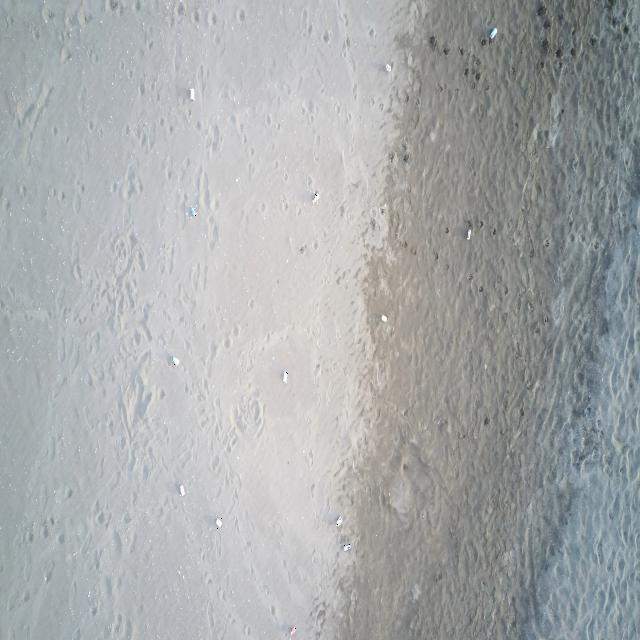Garbage: (487, 26, 496, 40), (171, 355, 179, 366), (281, 369, 287, 383), (335, 515, 342, 526), (312, 192, 319, 203), (188, 207, 196, 216), (288, 627, 296, 635), (343, 543, 351, 551), (380, 313, 387, 322), (188, 88, 193, 100), (215, 516, 220, 528), (384, 63, 391, 71), (178, 484, 183, 495), (467, 227, 471, 239)
